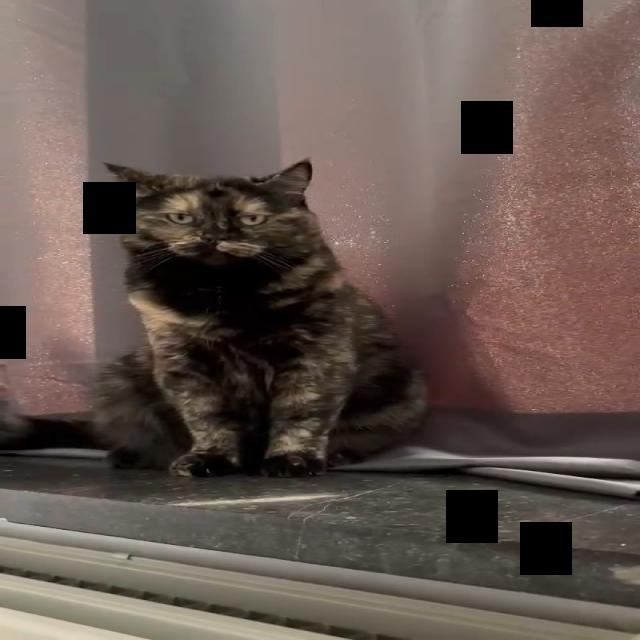authorized: (88, 156, 431, 479)
